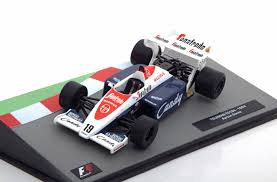f1_car: (51, 27, 228, 157)
